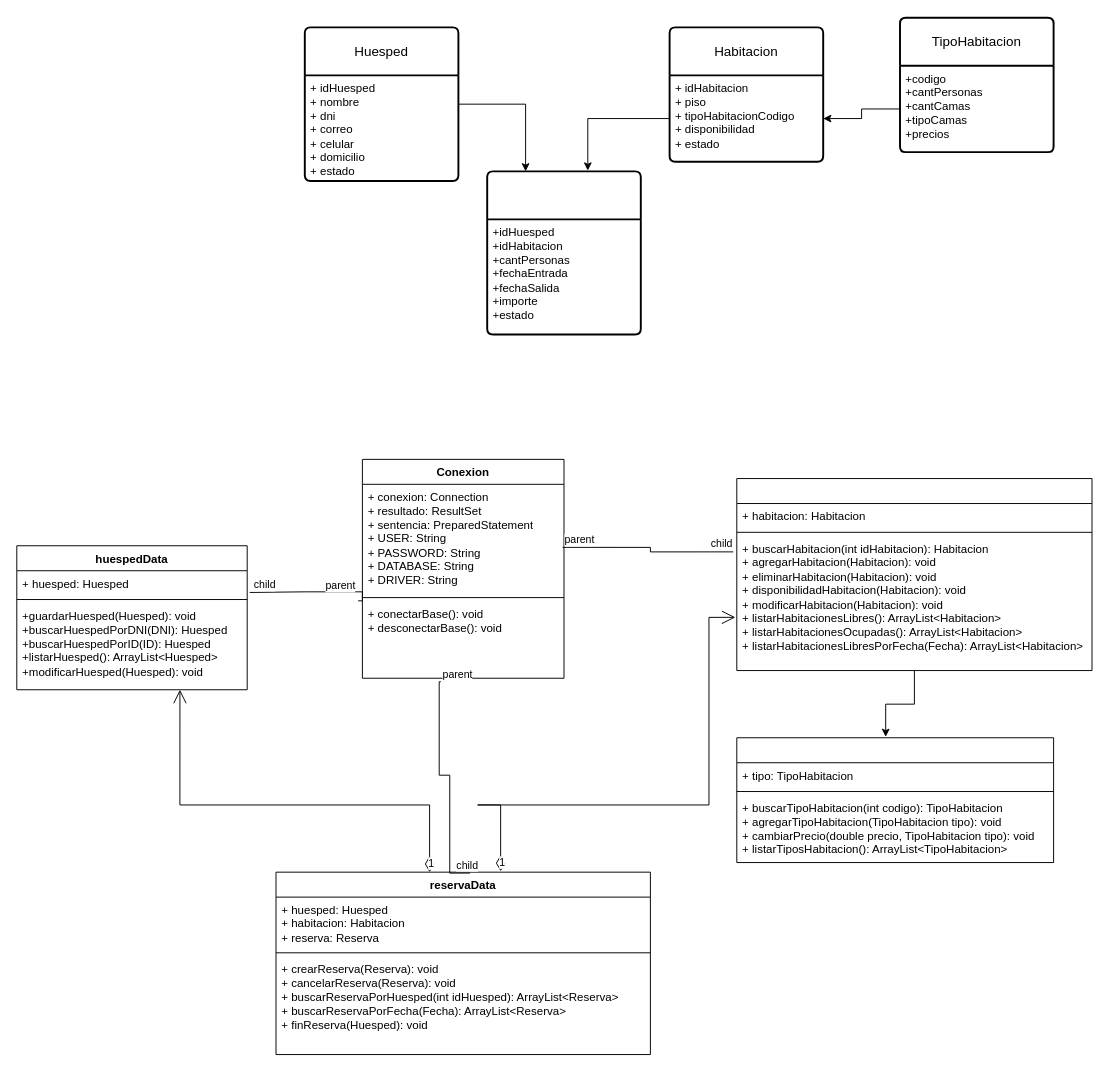
This 1109x1073 diagram has some shape labels left out. Here are the shapes that lost their labels. From the top down, the box of each, then its label:
(486, 170, 641, 335): Reservas
(736, 478, 1092, 671): habitacionData
(736, 737, 1054, 863): tipoData
